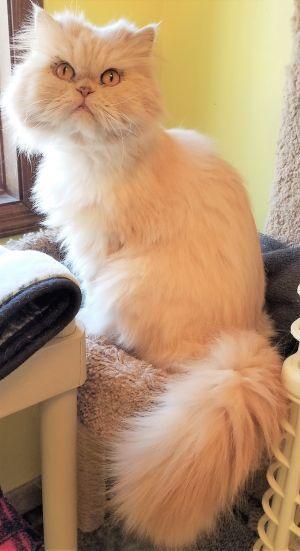persian: (11, 1, 168, 170)
